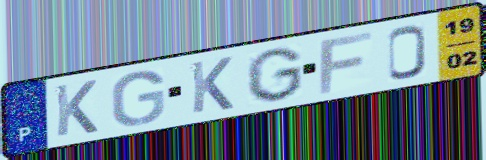0: (385, 23, 428, 83)
F: (317, 29, 375, 96)
G: (243, 45, 305, 103), (109, 69, 167, 128)
K: (52, 78, 100, 140), (188, 55, 236, 116)
